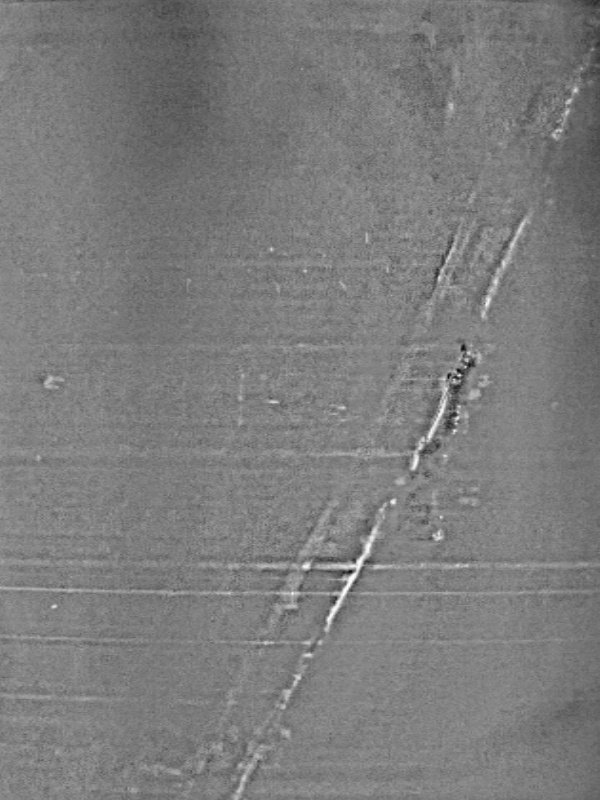splice_vulcanized: (184, 1, 600, 799)
